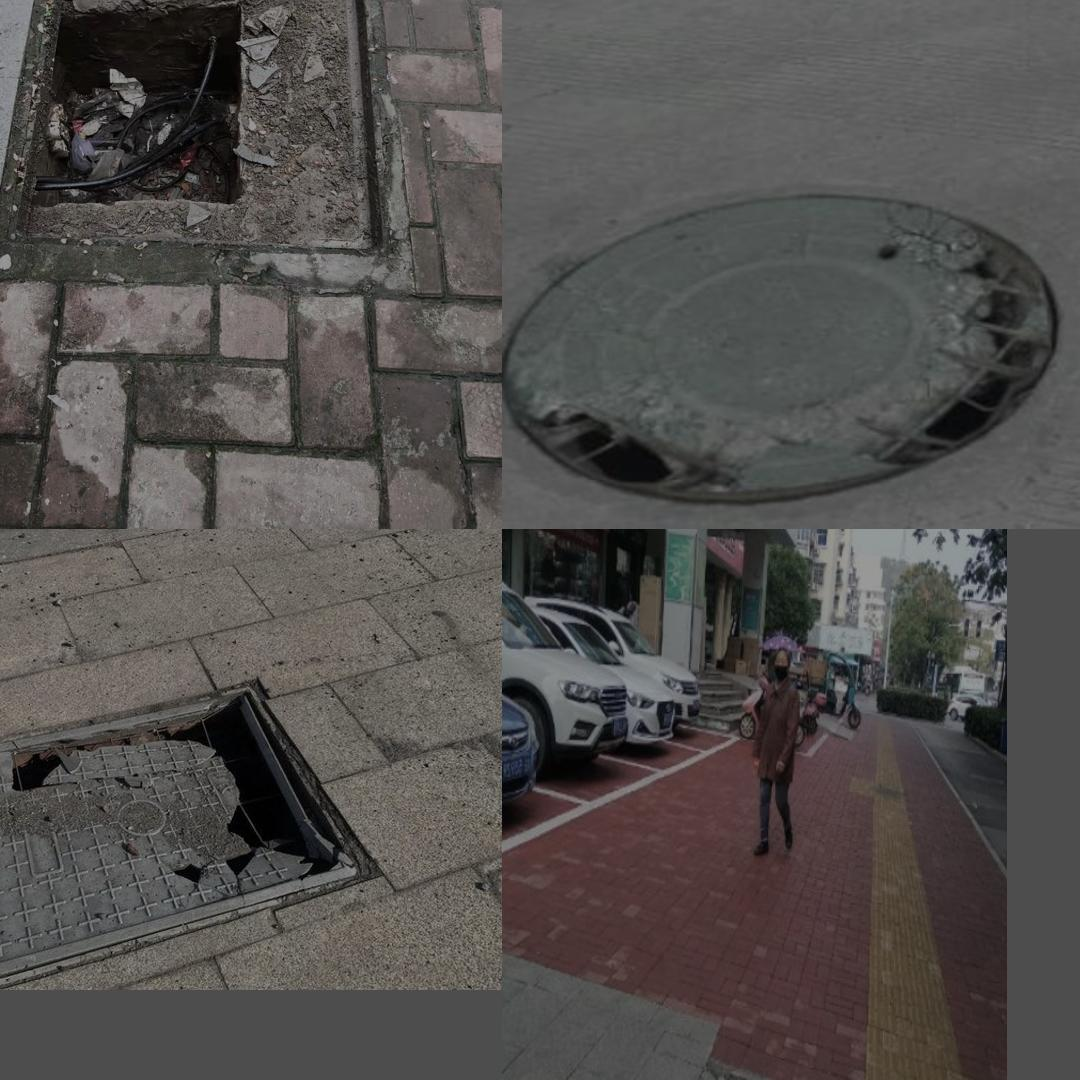broke: (506, 196, 1061, 506), (0, 670, 383, 988), (0, 0, 392, 253)
good: (694, 1064, 895, 1080)
